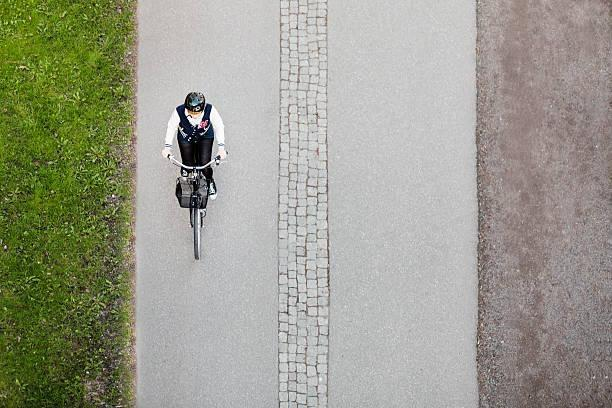Motorcycle: (161, 120, 224, 250)
